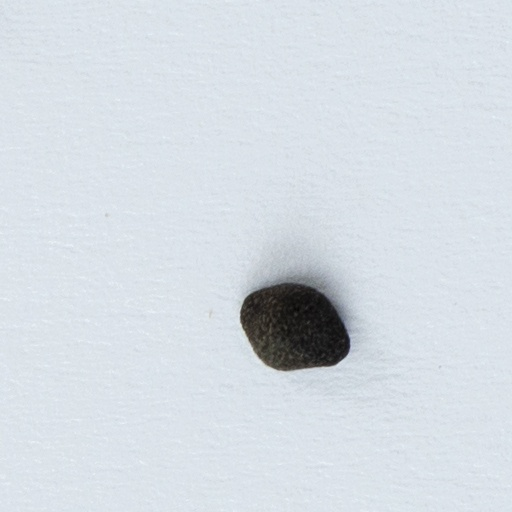Convolvulus-poly: (238, 280, 351, 373)
